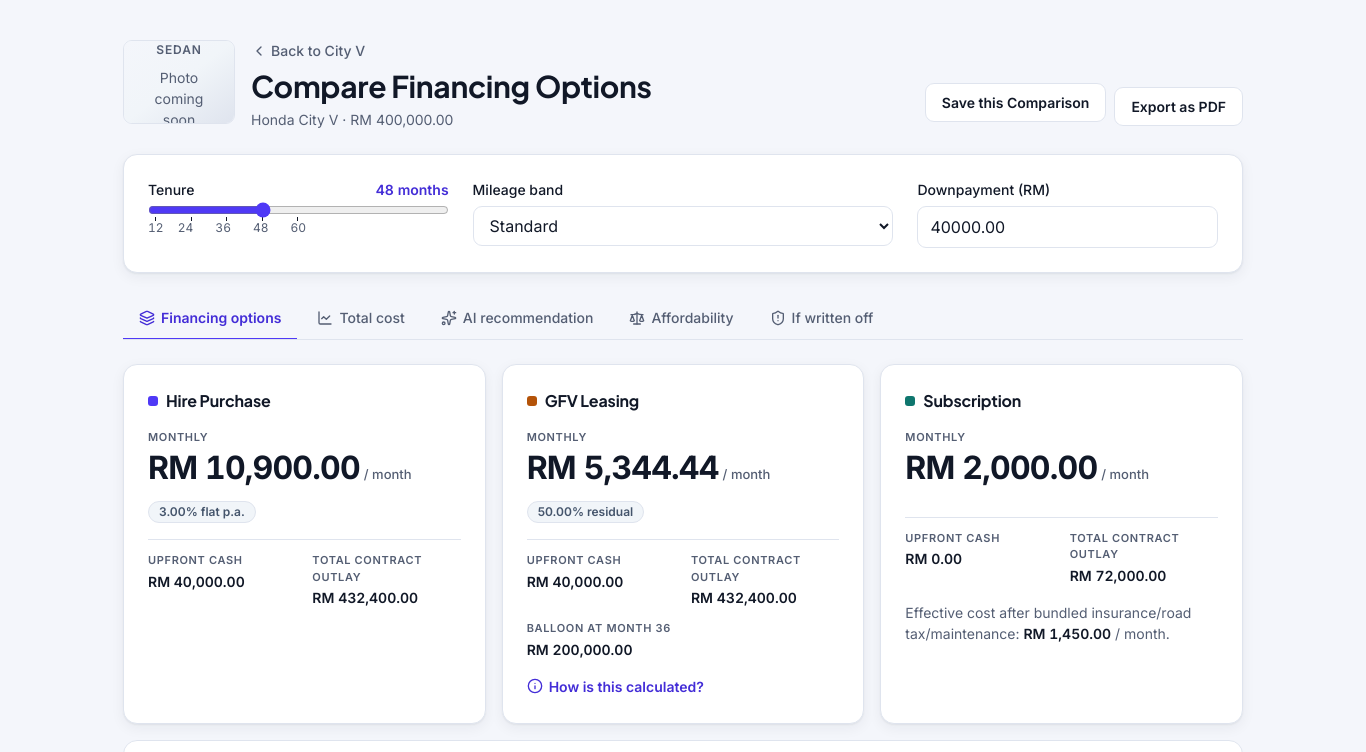
ComparisonPage › TCO Breakdown & Depreciation tab › shows the crossover month and shortfall amount when there is a crossover
What coordinates should you click on to do the following:
click the tab "Total cost"
I would click on:
 (361, 318)
Its box is top-left (301, 297), bottom-right (421, 340).
(page scrolled)
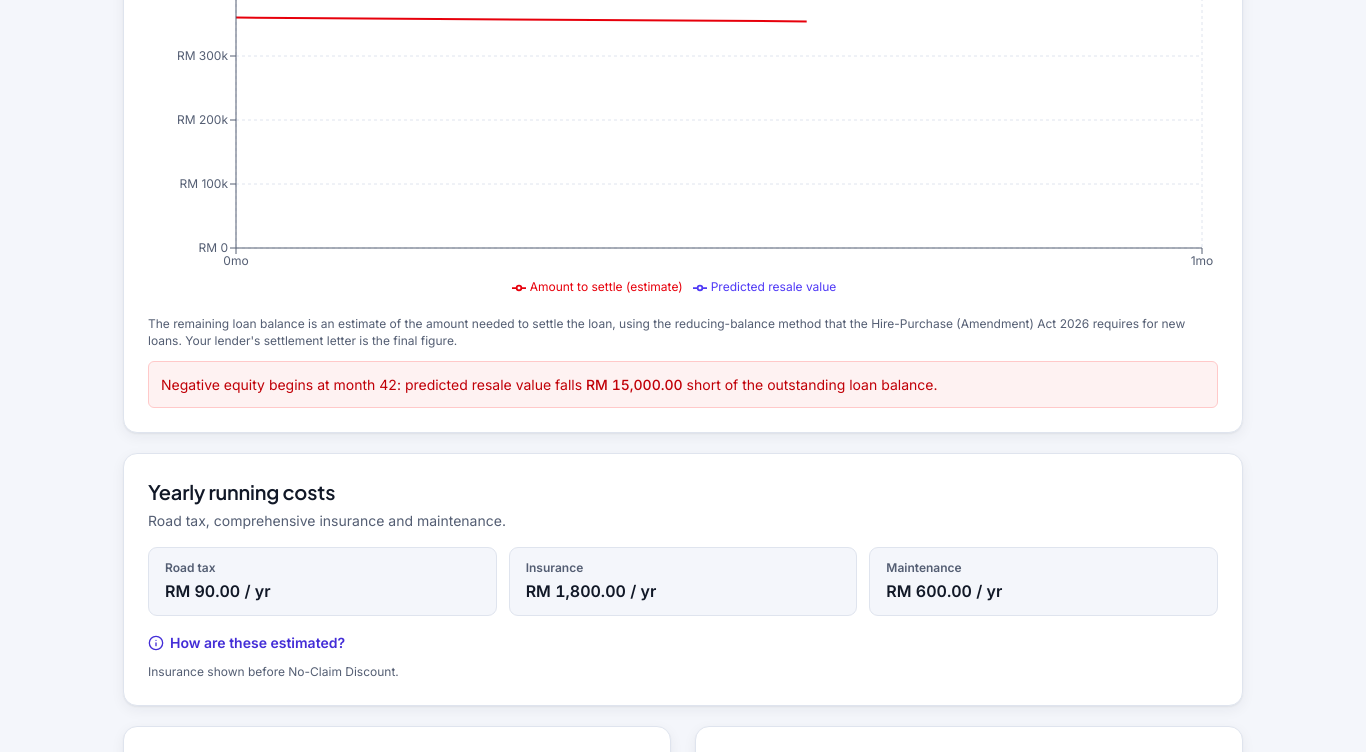
Expected: the text "Negative equity begins at month 42" shows "RM 15,000.00", top-left (586, 376), bottom-right (683, 394)
